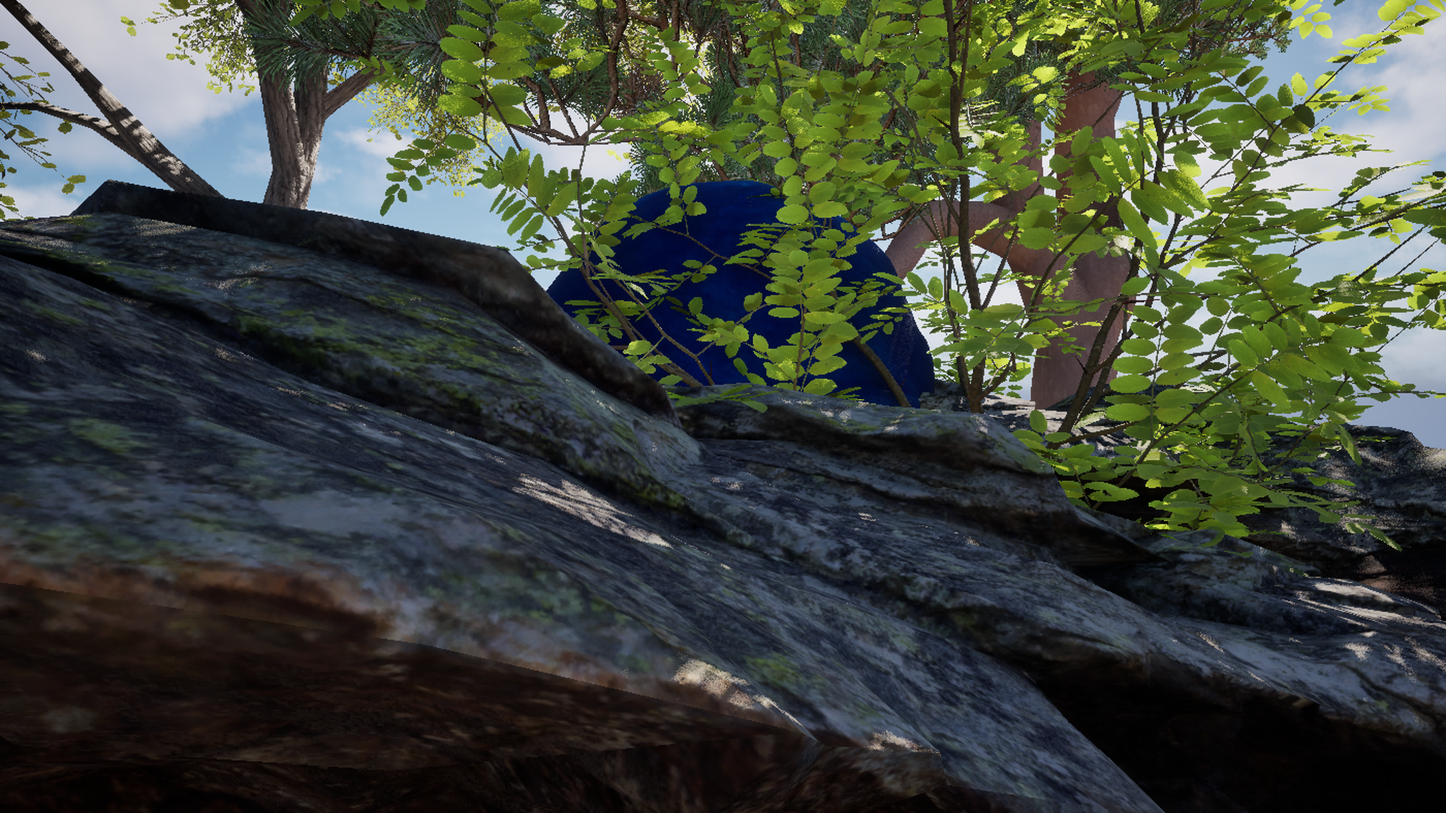Piplup: (282, 0, 1191, 813)
